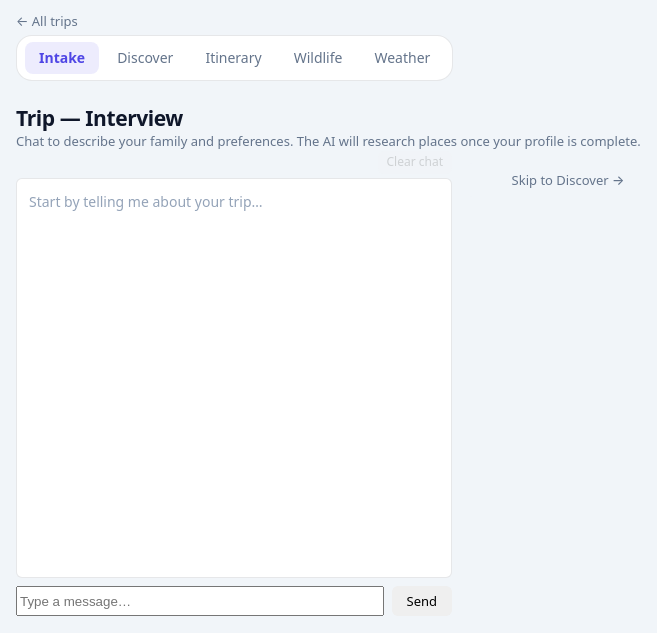
Test: IntakePage › sends a message and shows assistant reply
This screenshot has width=657, height=633.
Type "family of 3" into the field labelled "message" at (200, 601), box [16,586,384,616]
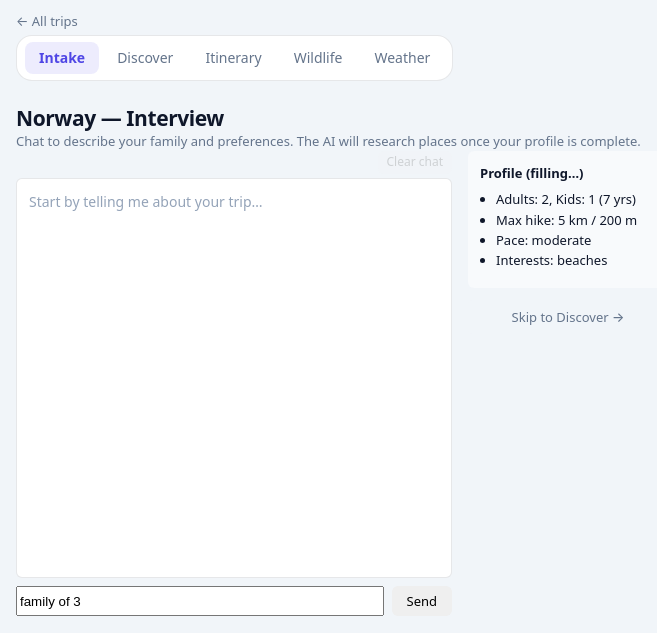
Click the button "Send" at (422, 601), box [392,586,452,616]
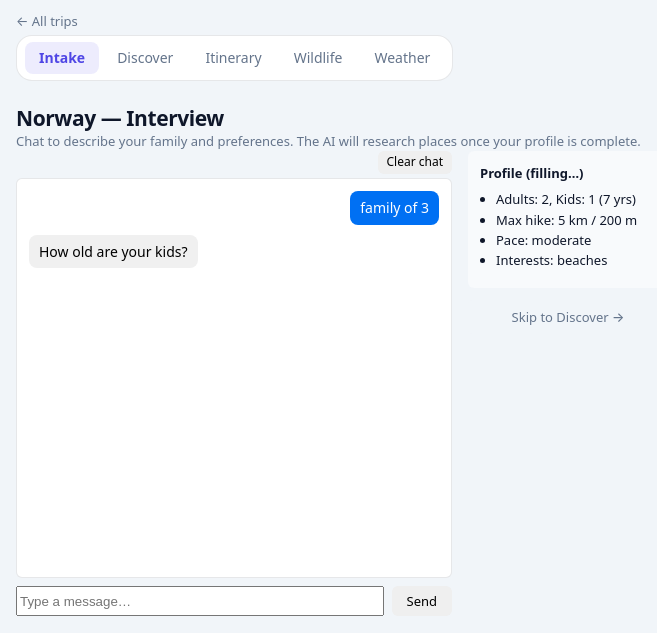
Check: the text "How old are your kids?" is shown, box [29,235,198,268]
